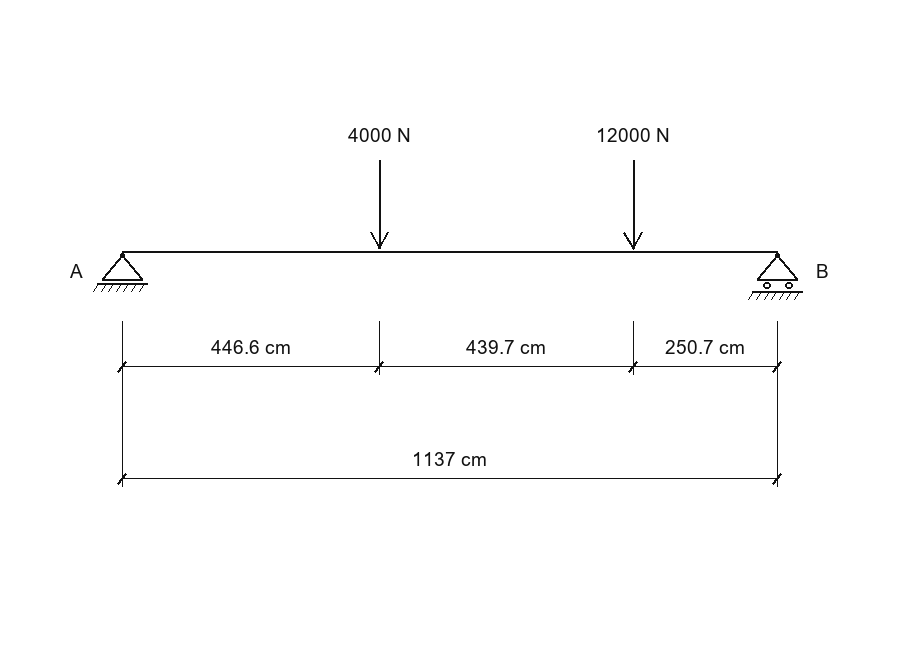pin_support: (93, 253, 148, 292)
point_load: (623, 160, 643, 250), (370, 160, 389, 249)
roller_support: (748, 253, 803, 300)
